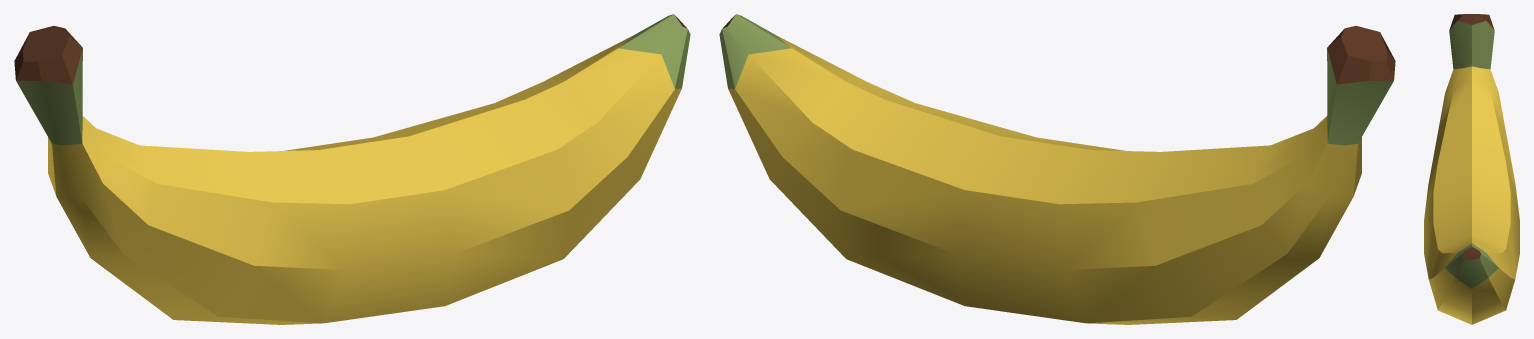
Rendered from banana.fbx.
3 views of the same model, side by side, from view 1: azimuth 30°, elevation 25°; view 2: azimuth 150°, elevation 25°; view 3: azimuth 270°, elevation 25° (orthographic). The views are drawn at different scales.
Visible parts, largest first — view 1: Cube.251; view 2: Cube.251; view 3: Cube.251.
Part boxes in pixels (box(x1,y1,x2,y2)): Cube.251: box(14, 14, 690, 324); Cube.251: box(719, 14, 1395, 324); Cube.251: box(1424, 14, 1519, 324).
Size of the model in its own units: 115 by 59.4 by 26.35.
